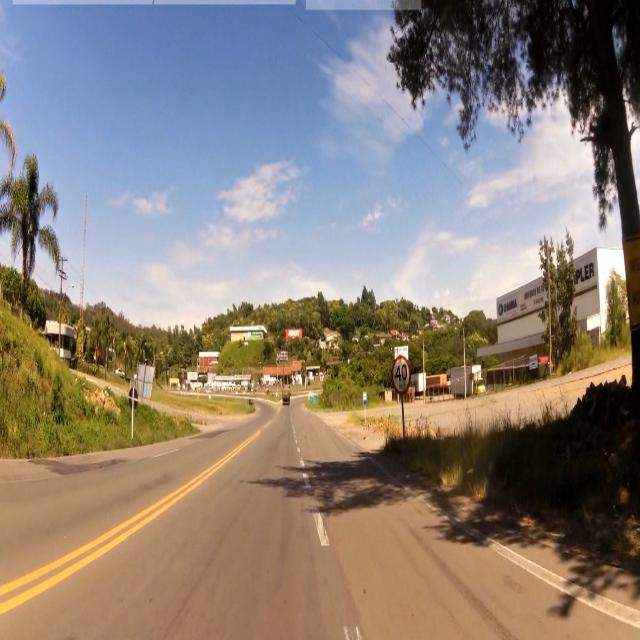R-19: (390, 349, 412, 407)
